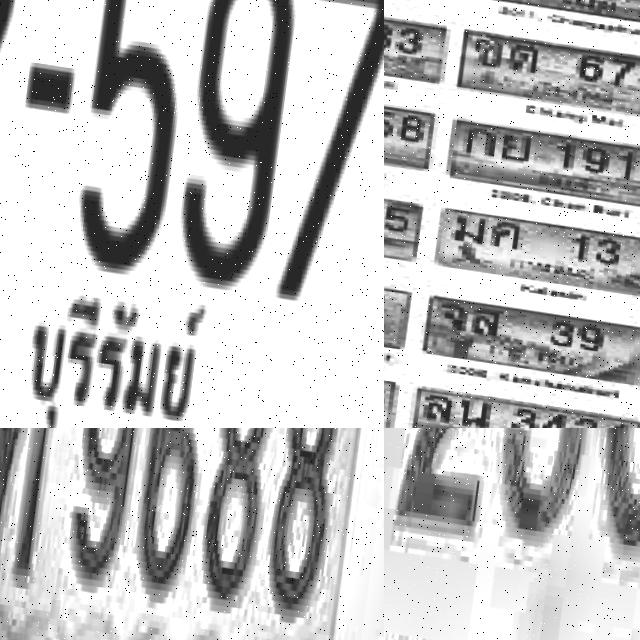license-plate: (0, 0, 384, 428), (0, 428, 384, 640), (384, 428, 640, 640), (415, 288, 640, 387), (427, 202, 640, 299), (437, 111, 640, 210), (452, 23, 640, 122), (404, 381, 640, 428), (384, 0, 456, 86), (469, 0, 640, 30), (384, 85, 436, 168), (384, 178, 424, 261), (384, 266, 416, 349)
